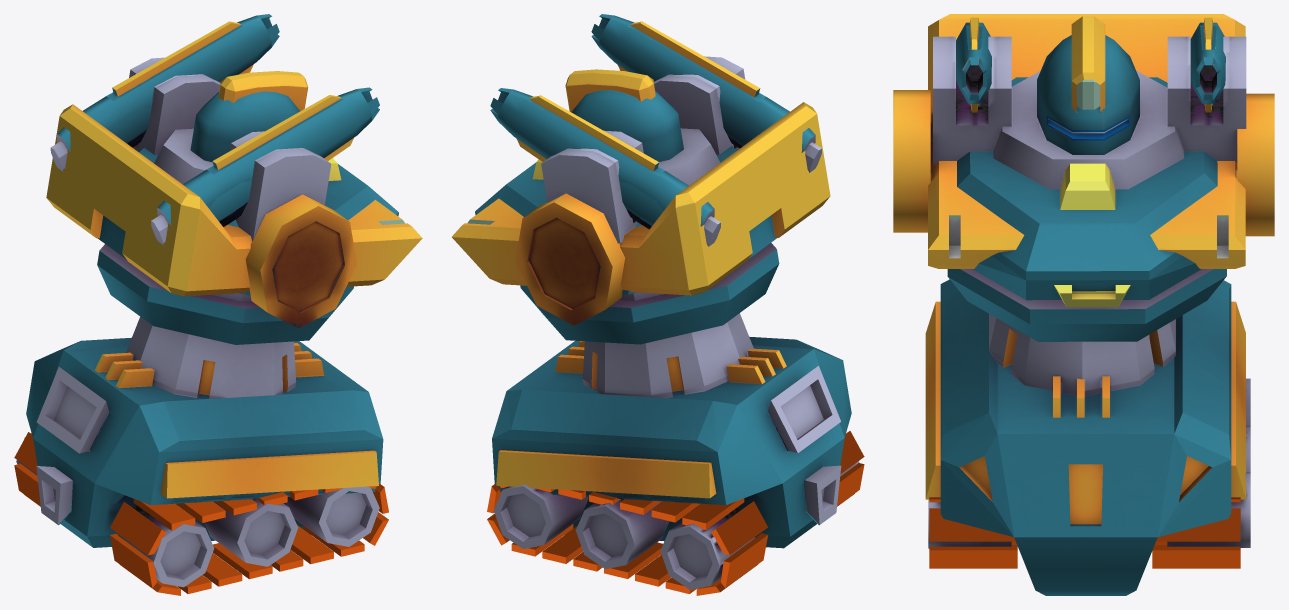
File: Player_Move6.obj
The picture shows the model from 3 angles, left to right: view 1: azimuth 30°, elevation 25°; view 2: azimuth 150°, elevation 25°; view 3: azimuth 270°, elevation 25°; orthographic projection. The views are drawn at different scales.
Parts seen in each view (by area): view 1: Object004, Object014, Box009, Box017, Box016; view 2: Object004, Object014, Box009, Box016, Box017; view 3: Object004, Object014, Box017, Box016, Box009.
Part boxes in pixels (box(x1,y1,x2,y2)): Object004: box(26, 57, 422, 547); Object014: box(50, 14, 379, 244); Box009: box(16, 433, 379, 587); Box017: box(110, 483, 388, 595); Box016: box(14, 432, 89, 506); Object004: box(452, 56, 851, 548); Object014: box(490, 14, 821, 246); Box009: box(493, 461, 859, 589); Box016: box(487, 483, 767, 595); Box017: box(837, 431, 864, 506); Object004: box(893, 14, 1274, 595); Object014: box(956, 17, 1225, 112); Box017: box(929, 497, 1017, 568); Box016: box(1152, 497, 1240, 568); Box009: box(928, 378, 1250, 548).
Bounding box in the file's own units: 60.24 × 82.68 × 52.49.
